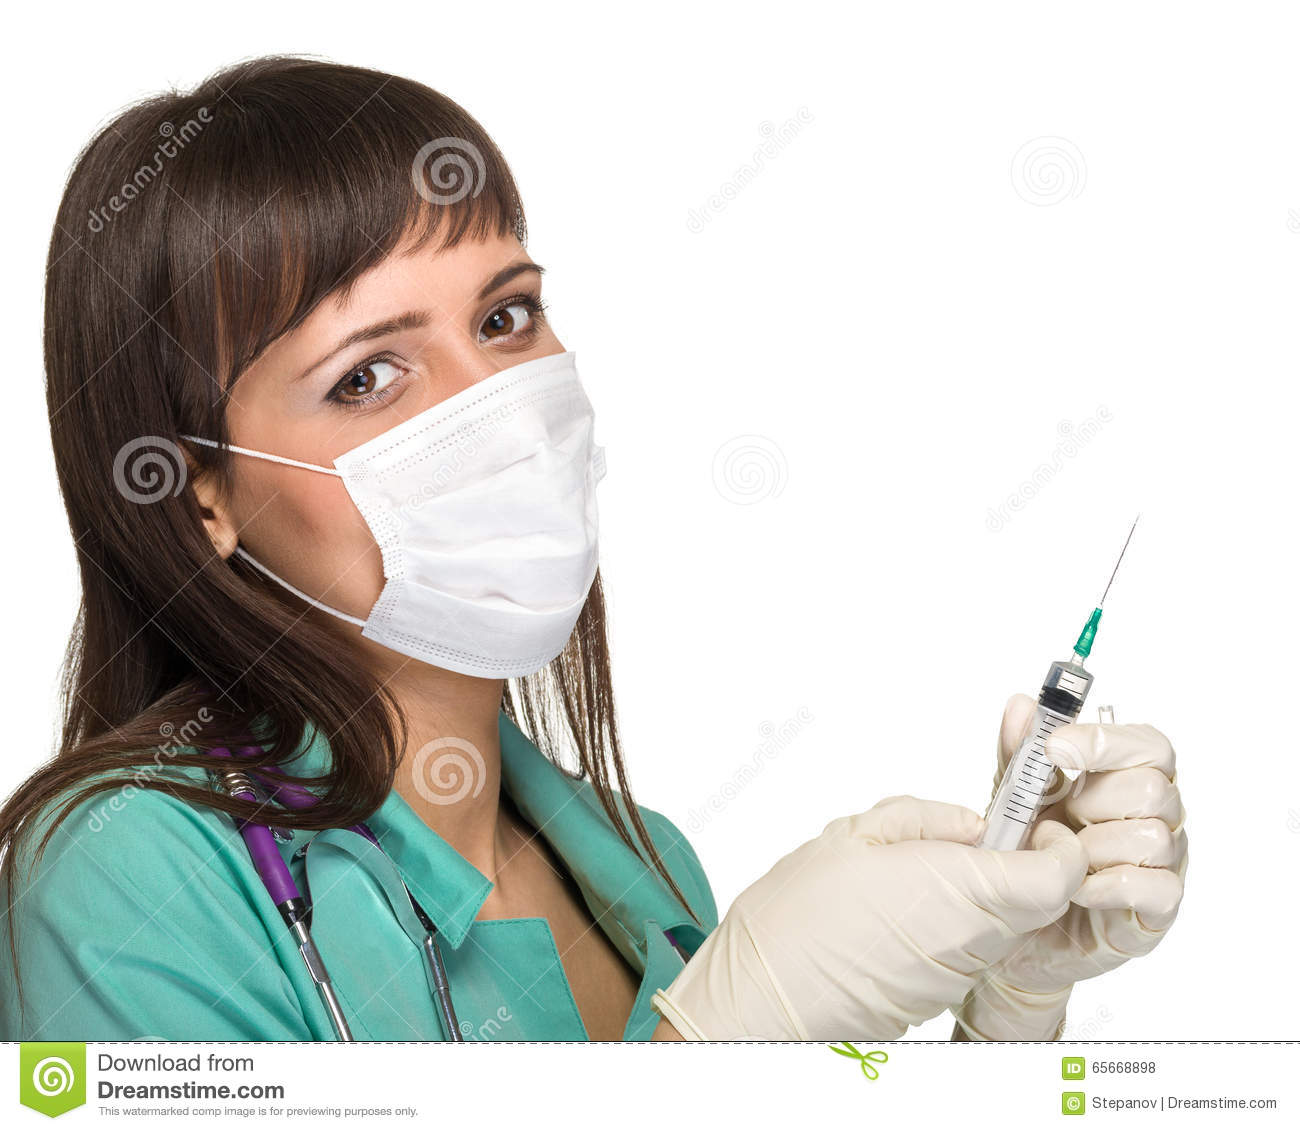mask: (322, 363, 635, 692)
